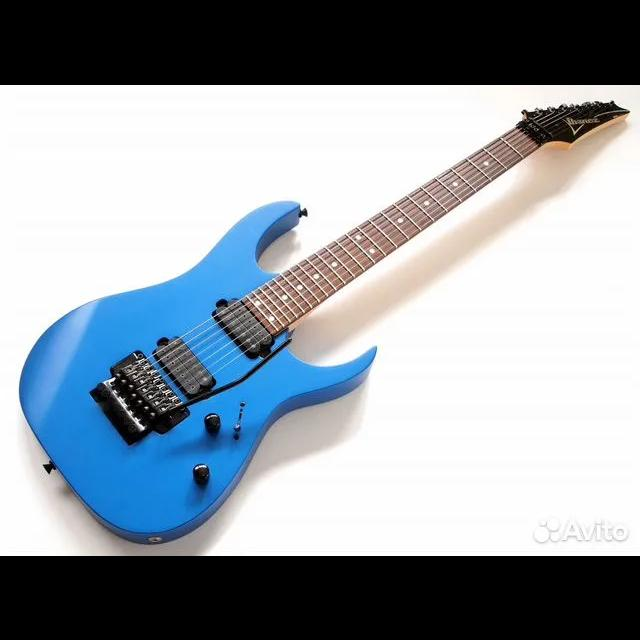Electric-Guitar: (18, 99, 630, 544)
